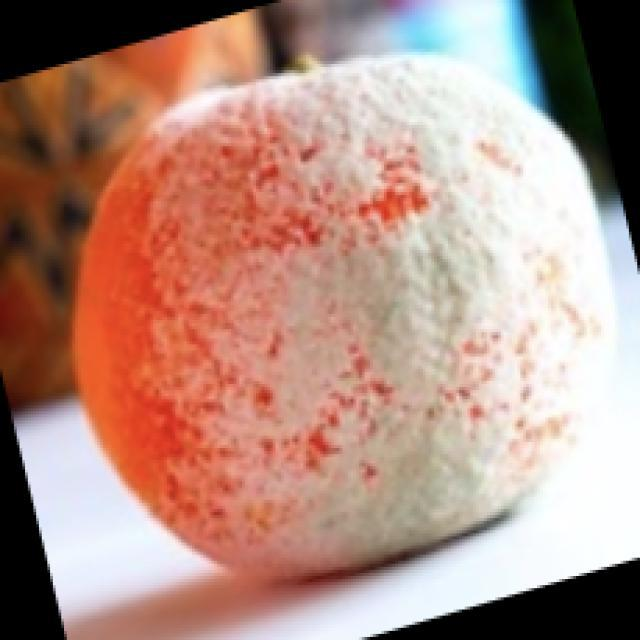sangat-busuk: (75, 57, 612, 573)
